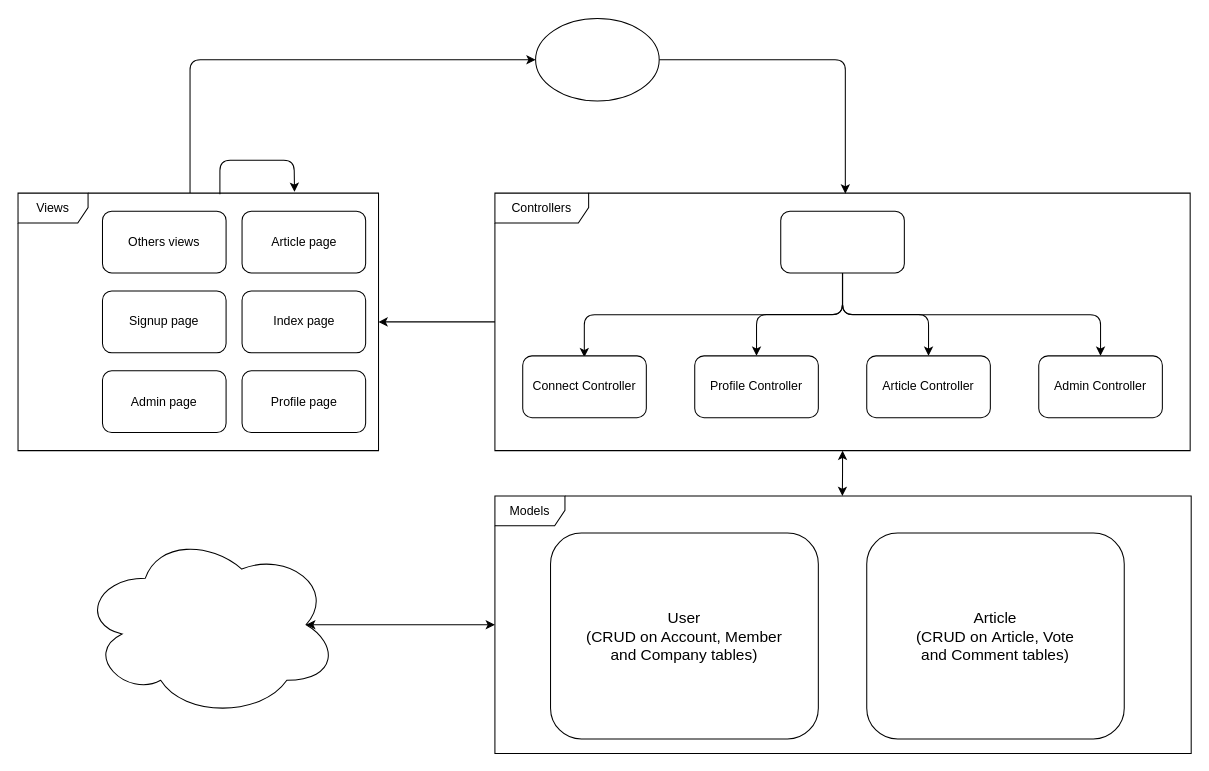
Image size: 1209x771. Some labels were removed from this diagram. The centre of each missing label's shape, as x and y in pixels:
"Database" goes at (x=209, y=624).
"Main Controller" goes at (x=842, y=241).
"User" goes at (x=597, y=59).
